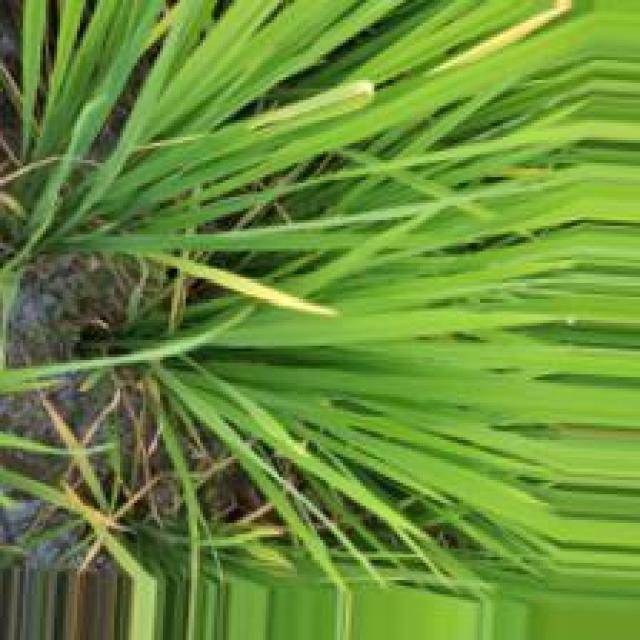HealthyLeaf: (315, 370, 596, 412), (260, 310, 420, 347), (402, 453, 489, 502)
